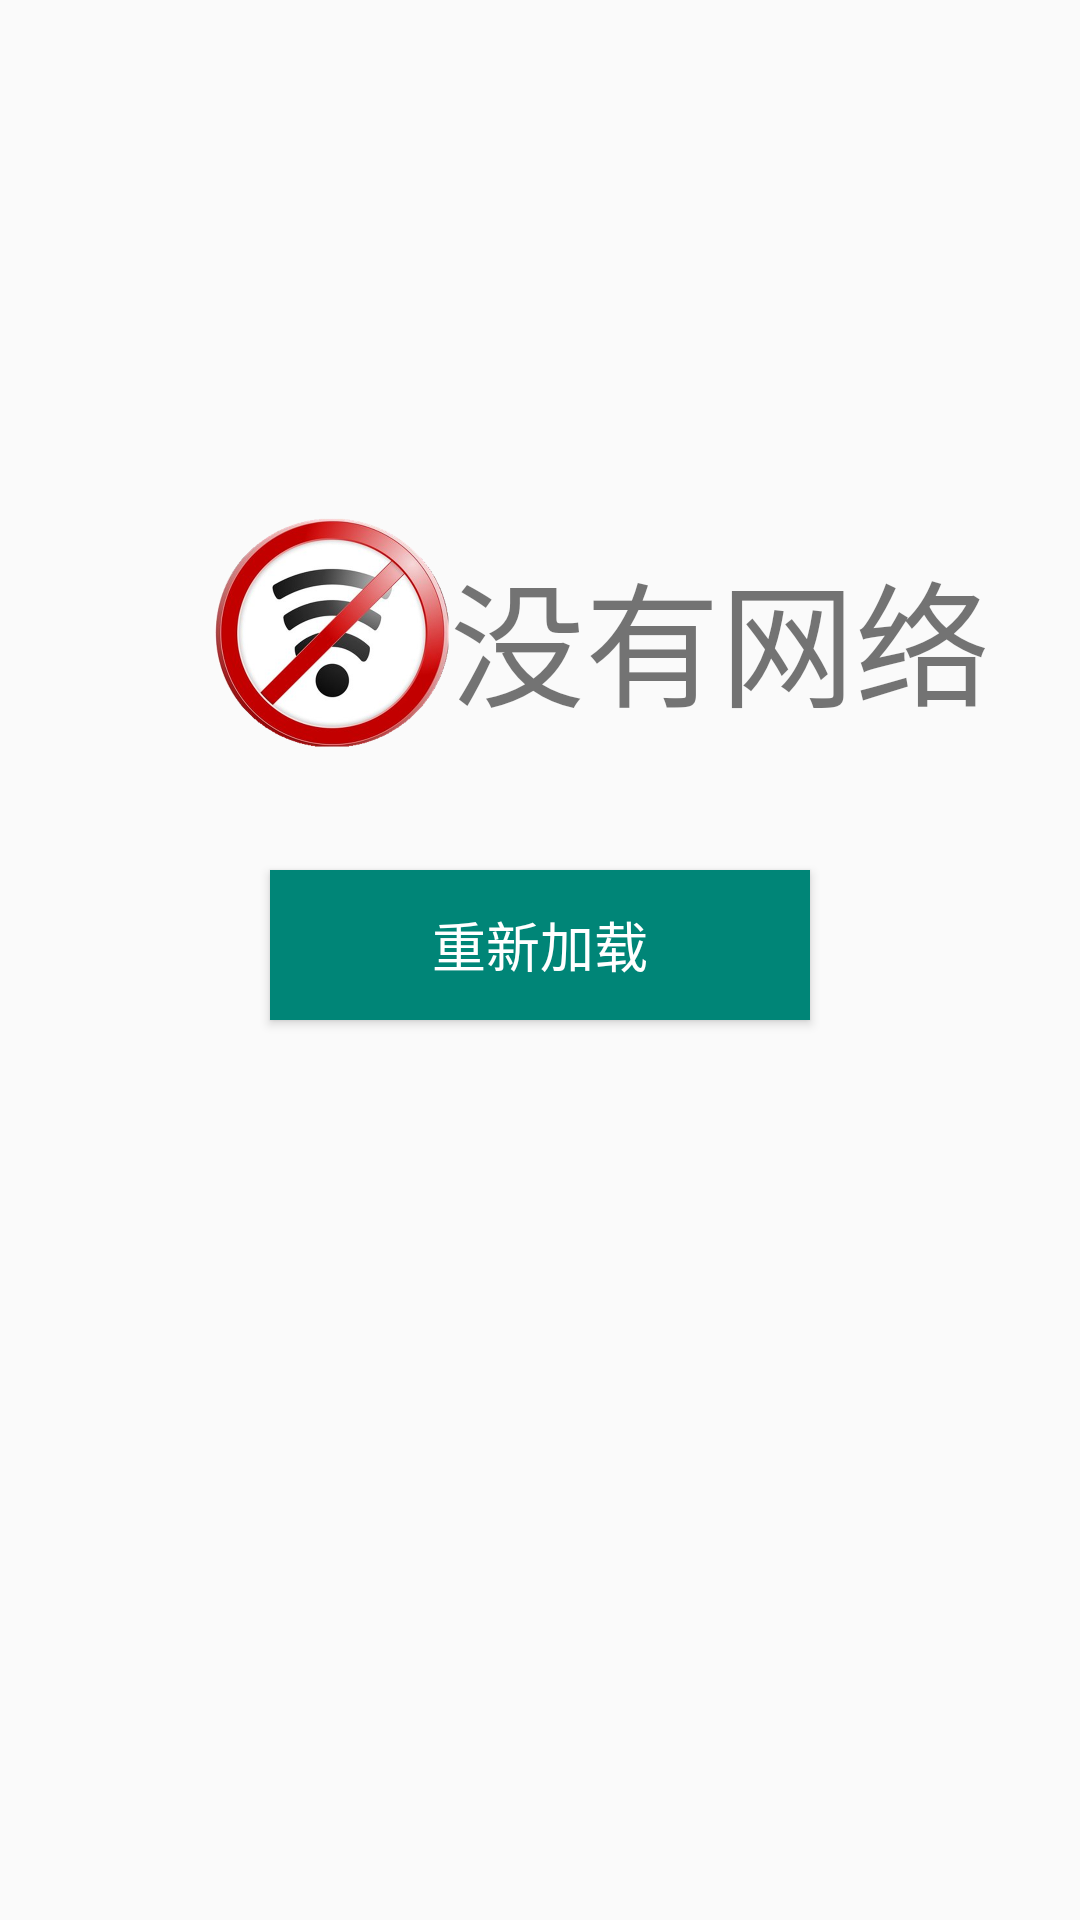

Screen size 1080 × 1920. Icon name, then its center in pixels as [x,y]:
no network: [332,633]
